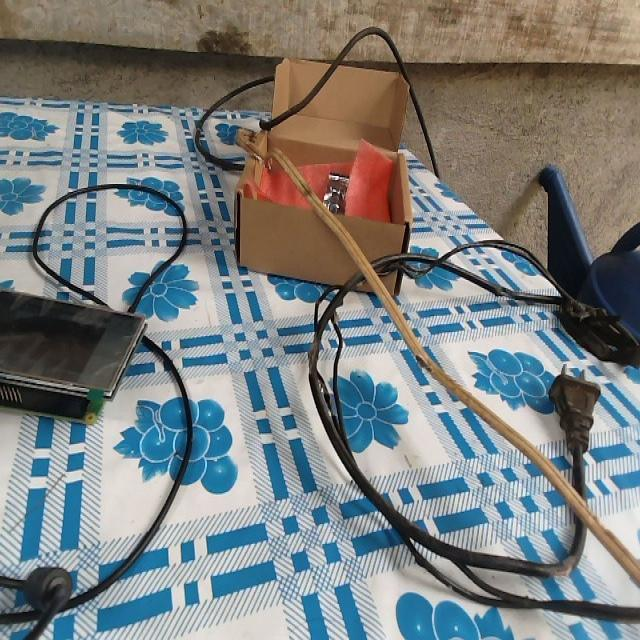-: (409, 350, 431, 370), (309, 334, 317, 382)
